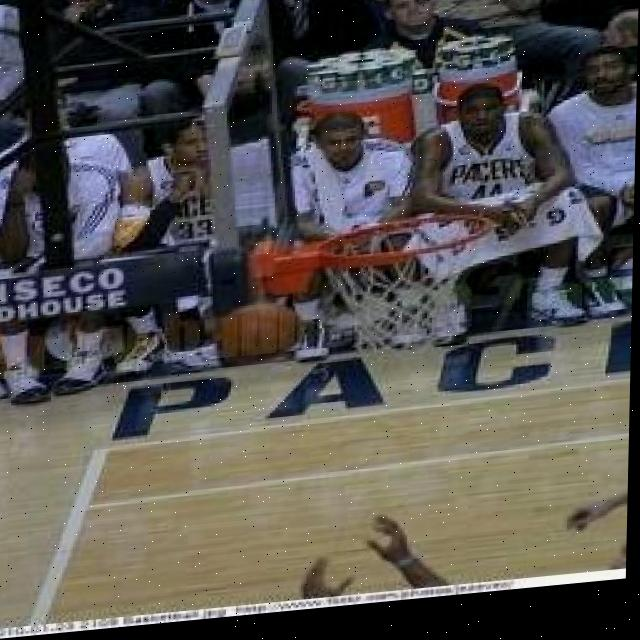Basketball: (220, 301, 298, 363)
